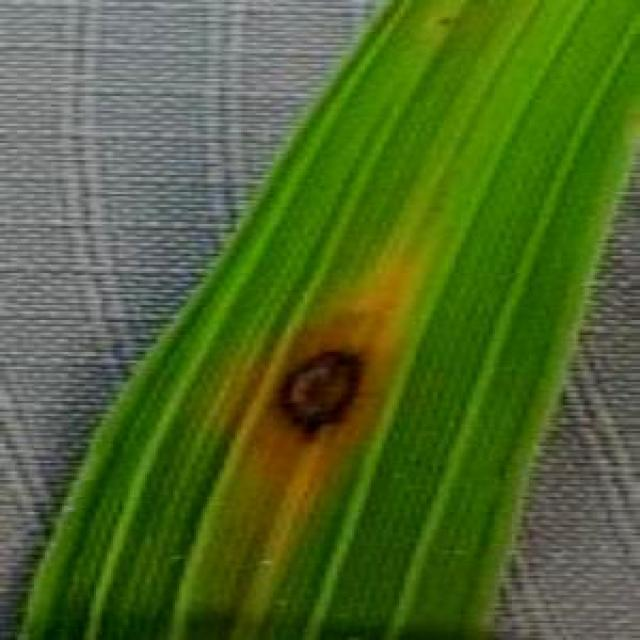Rice_Brownspot: (250, 328, 388, 458), (429, 6, 461, 30)
